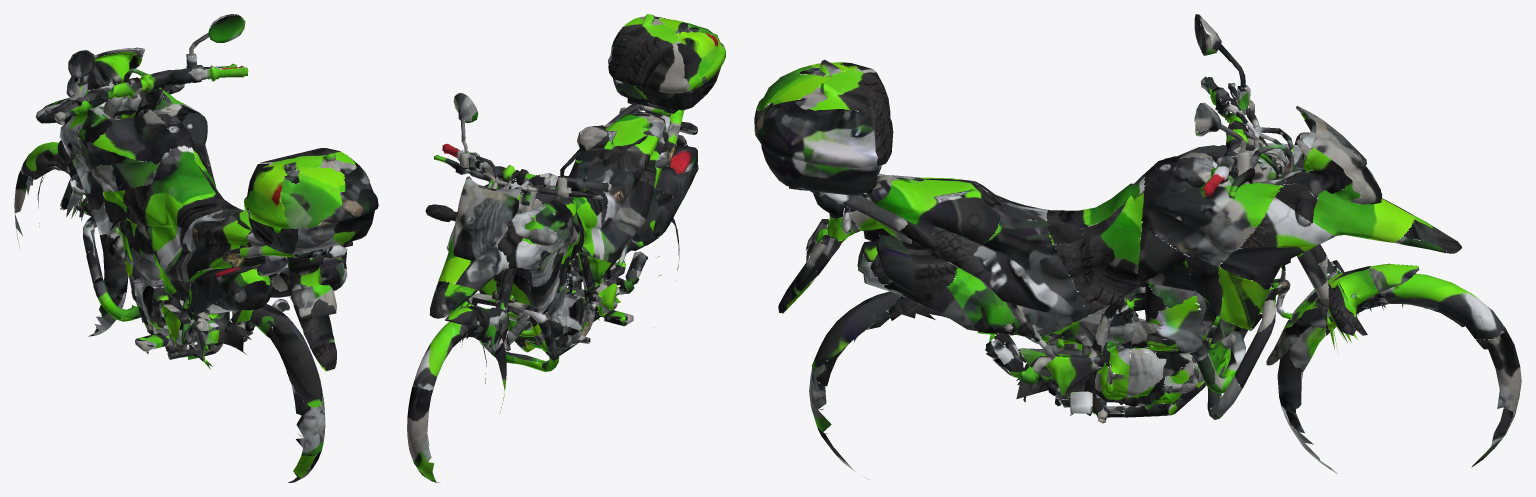
File: moto_policia_body.gltf
The picture shows the model from 3 angles, left to right: view 1: azimuth 30°, elevation 25°; view 2: azimuth 150°, elevation 25°; view 3: azimuth 270°, elevation 25°; orthographic projection. The views are drawn at different scales.
Visible parts, largest first — view 1: moto_policia_body; view 2: moto_policia_body; view 3: moto_policia_body.
Boxes of the visible parts, x1,y1,x2,y2 form: moto_policia_body: [14, 14, 378, 482]; moto_policia_body: [407, 14, 725, 482]; moto_policia_body: [754, 14, 1521, 479].
Size of the model in its own units: 0.3466 by 0.608 by 1.
Materials: 1 (1 with a texture image).
